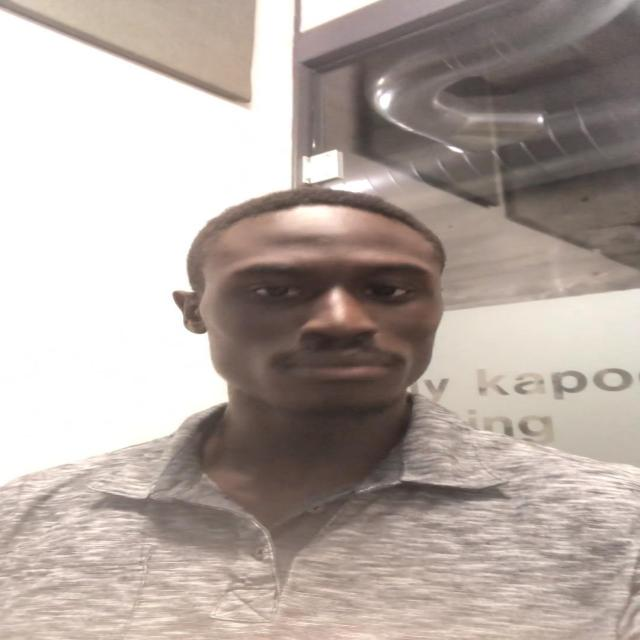face: (207, 214, 450, 414)
